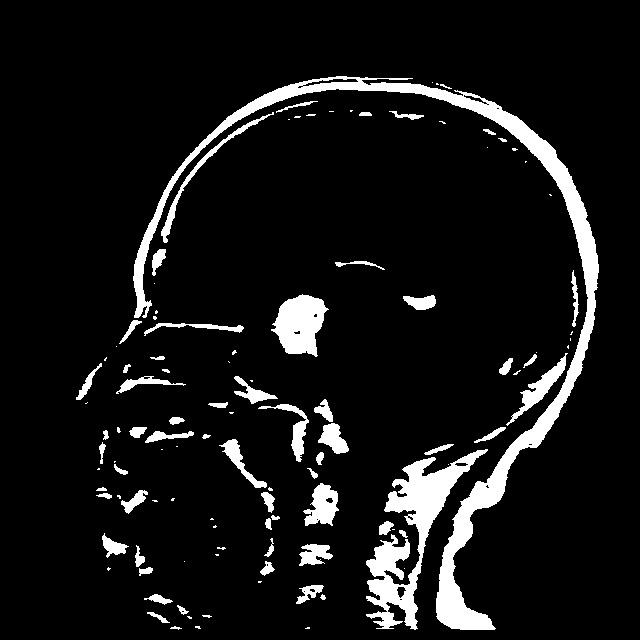Brain-Tumor: (260, 285, 346, 366)
